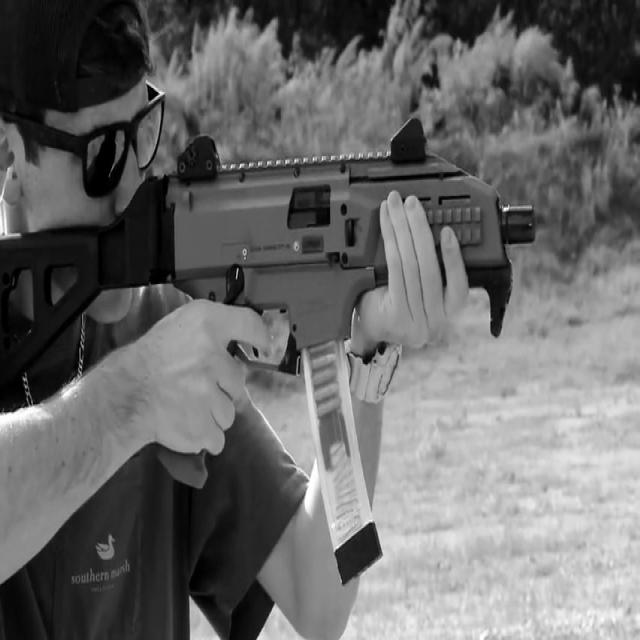Sub-machine-gun: (0, 148, 546, 562)
